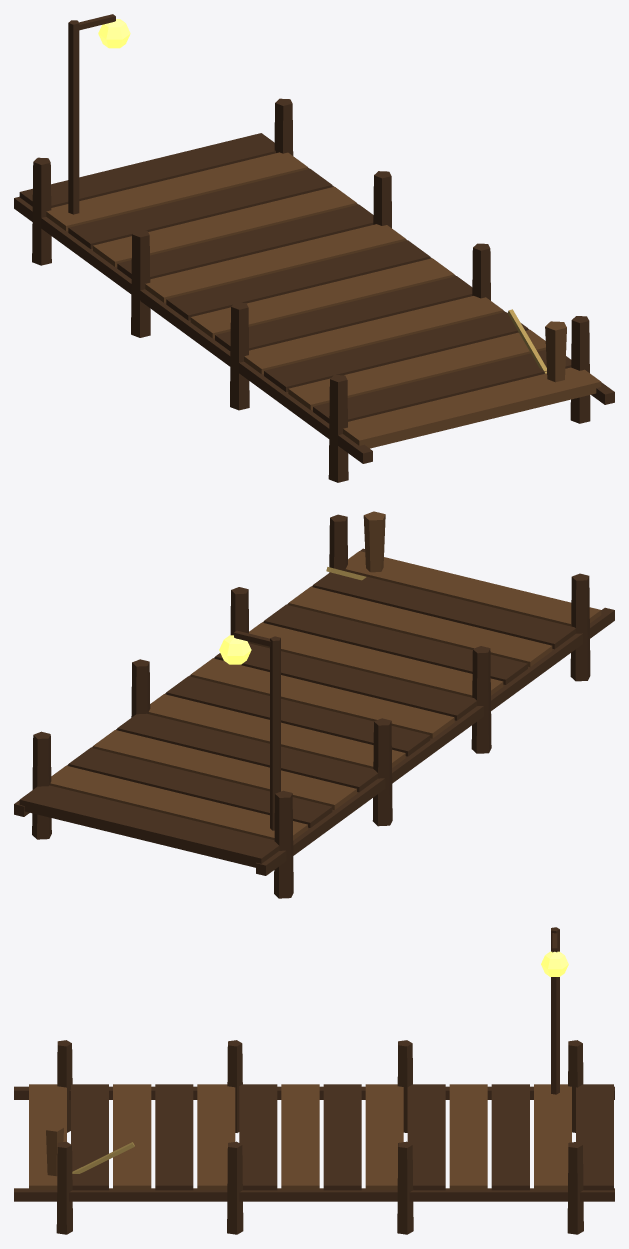
File: br_ferry_dock.glb
3 renders of one model, top to bottom at view 1: azimuth 30°, elevation 25°; view 2: azimuth 150°, elevation 25°; view 3: azimuth 270°, elevation 25°, orthographic. The views are drawn at different scales.
Visible parts, largest first — view 1: br_ferry_dock; view 2: br_ferry_dock; view 3: br_ferry_dock.
Boxes of the visible parts, x1,y1,x2,y2 form: br_ferry_dock: (14, 14, 614, 482); br_ferry_dock: (14, 511, 614, 898); br_ferry_dock: (14, 927, 614, 1234).
Bounding box in the file's own units: 2.57 × 2.3 × 6.
